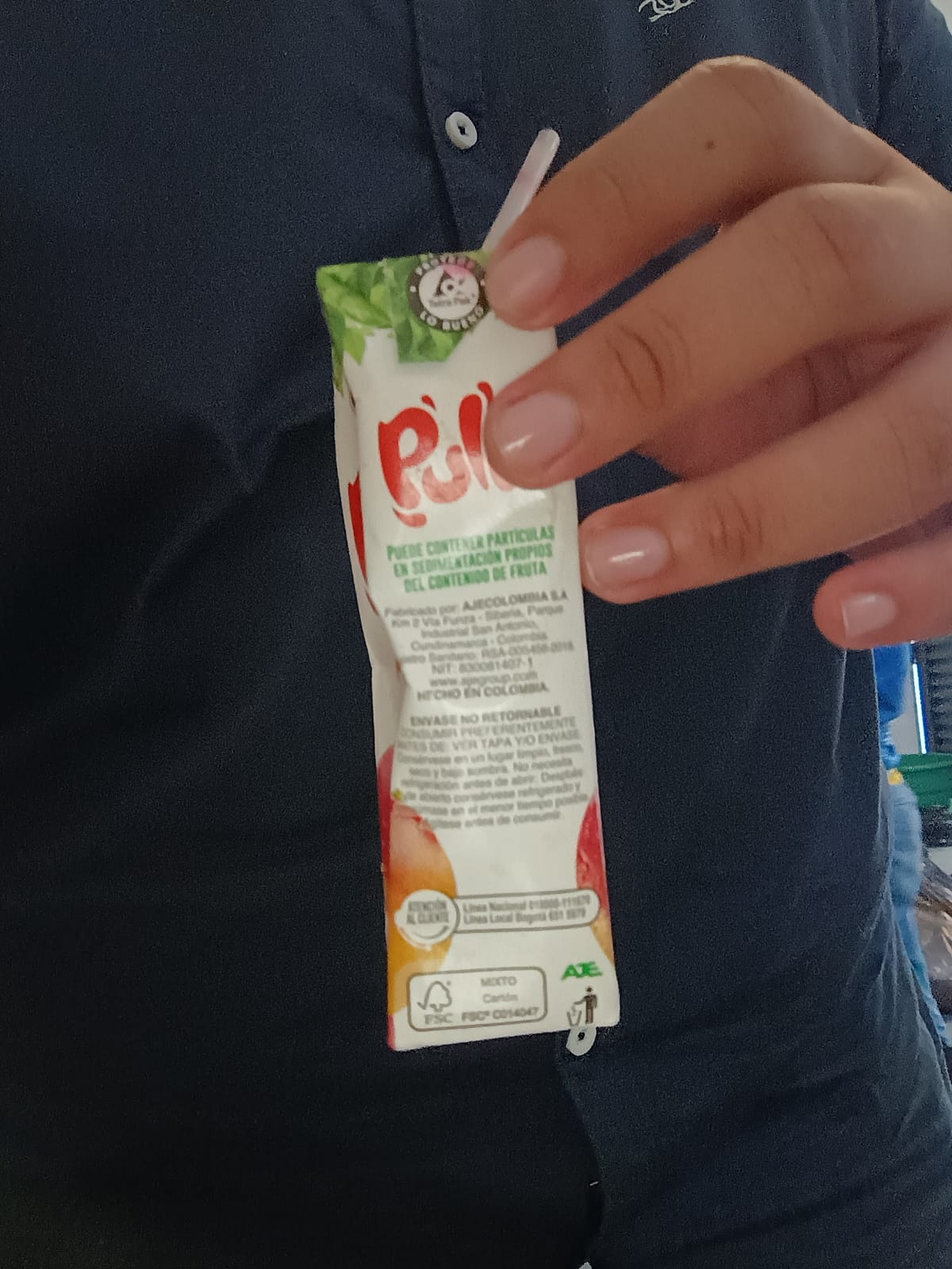Carton: (310, 257, 621, 1055)
